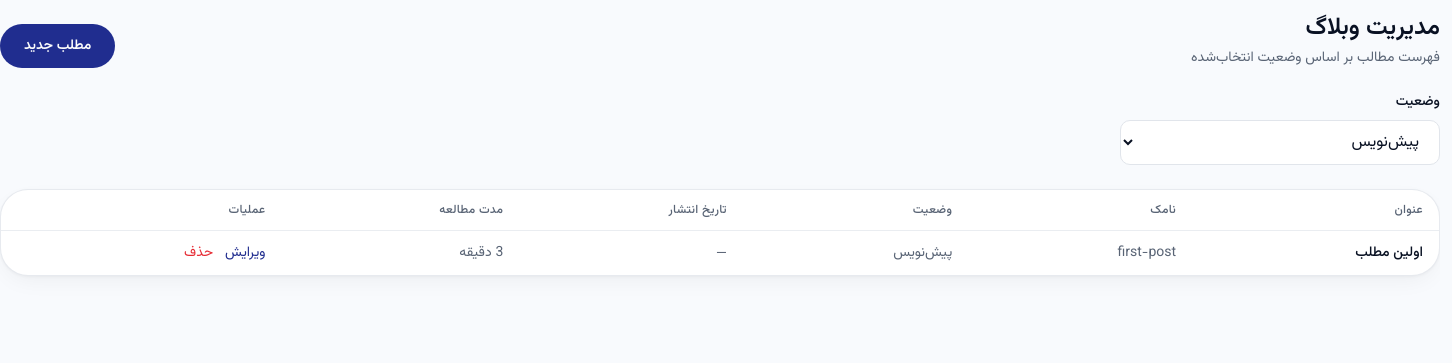
BlogListView › row workflow actions › deletes a post and refetches the list
Expected: the text "اولین مطلب" is shown, [1192,231,1439,275]
Click the button "حذف". click: (199, 253)
box: [184,243,213,263]
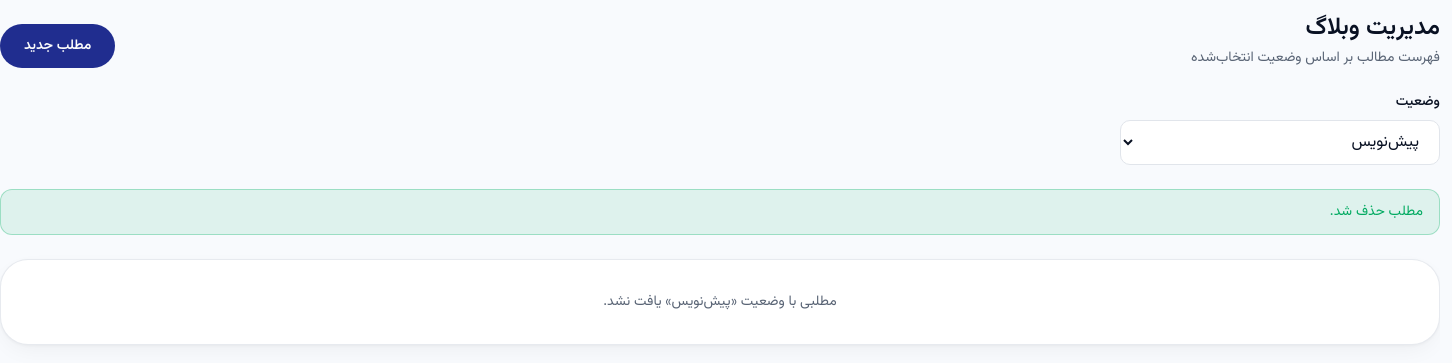
Result: the text "مطلب حذف شد." is shown at [0,189,1440,235]
